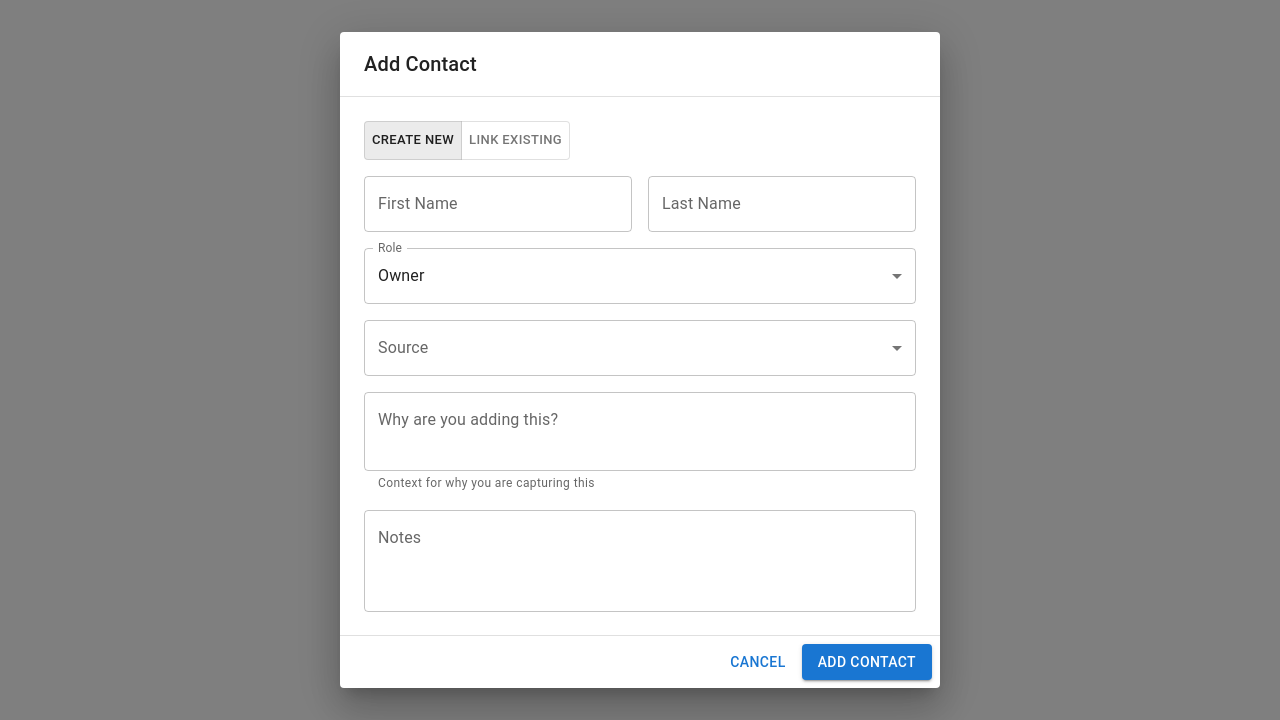
Test: ContactFormModal › link existing contact › clears the selected contact when the search text is edited
The image size is (1280, 720).
Click the button with test id "contact-form-mode-link".
click(516, 140)  # box [461,121,570,160]
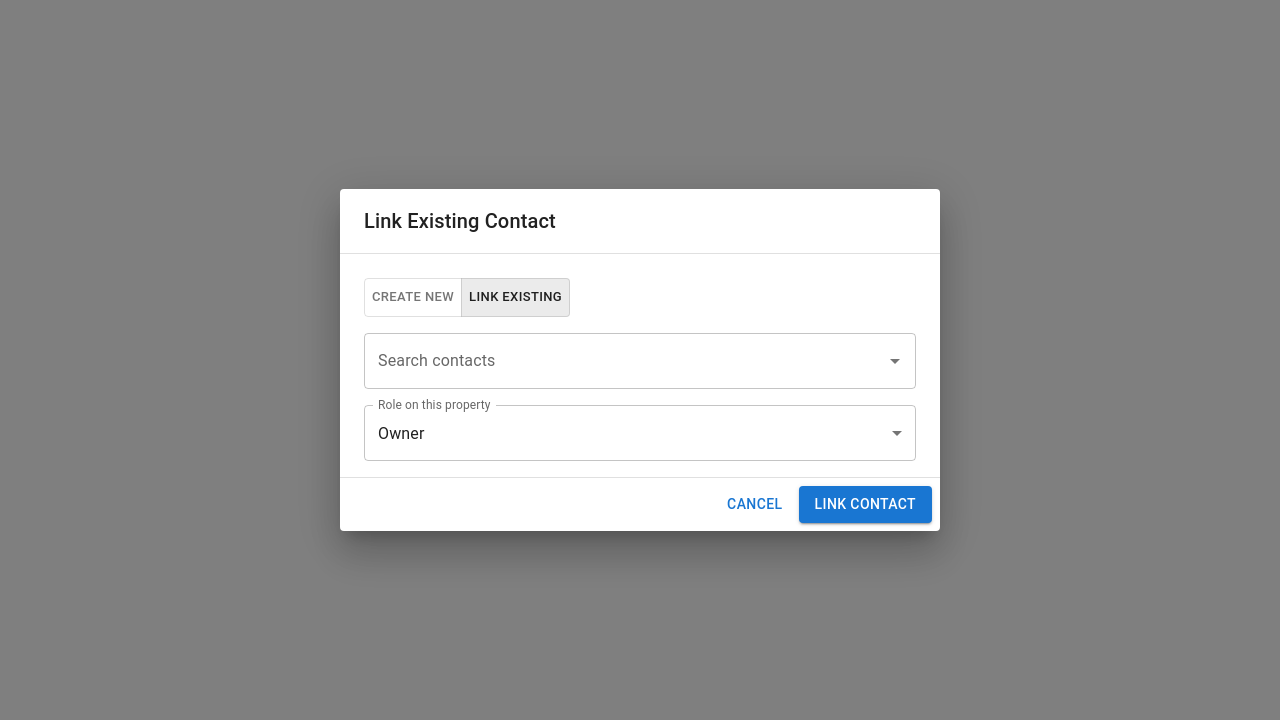
Type "Shek" into the dropdown with test id "contact-link-search-input".
click(625, 361); type("Shek")  # box [373,342,877,380]
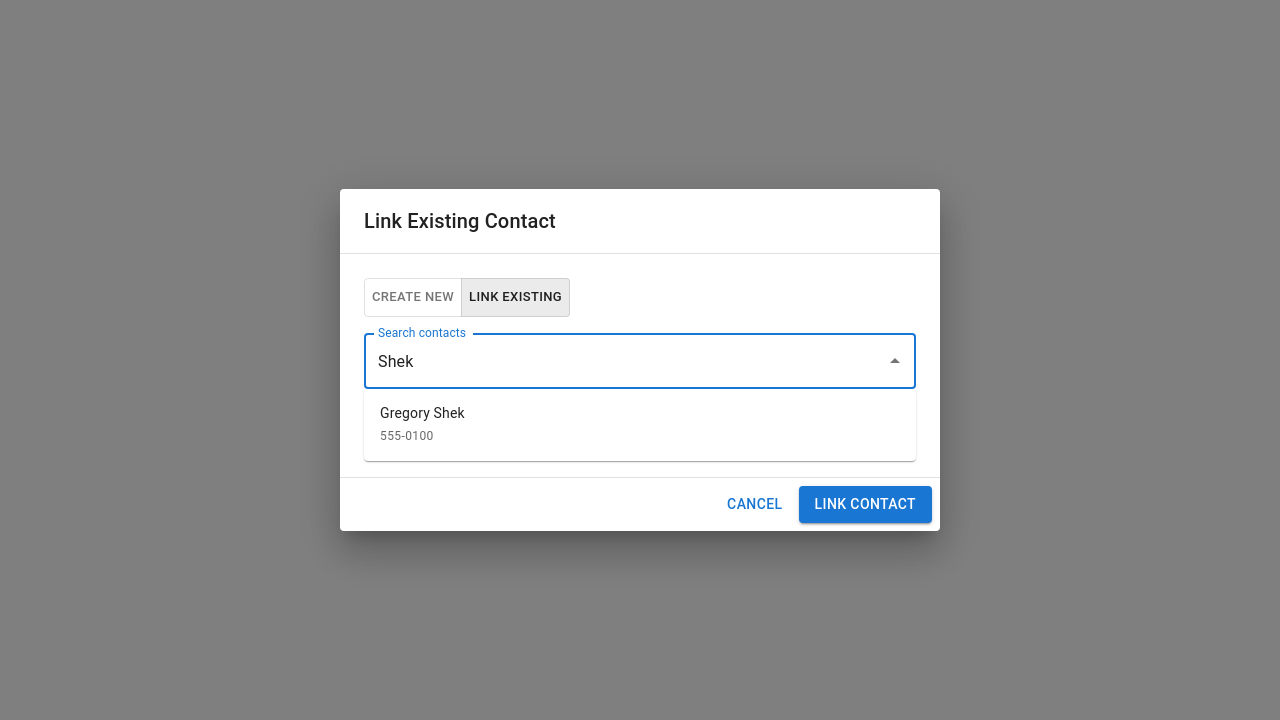
Click the option "Gregory Shek 555-0100".
click(422, 424)  # box [380,405,465,443]
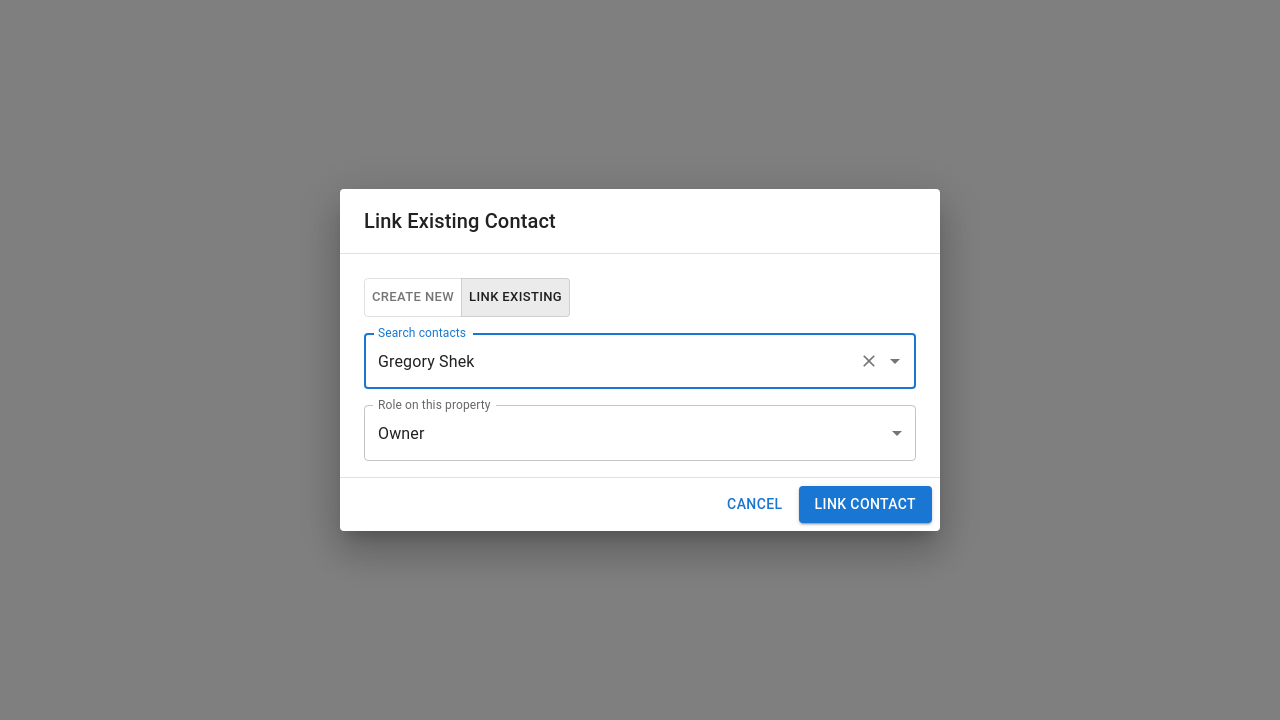
Clear the dropdown with test id "contact-link-search-input" at (612, 361), box [373,342,851,380]
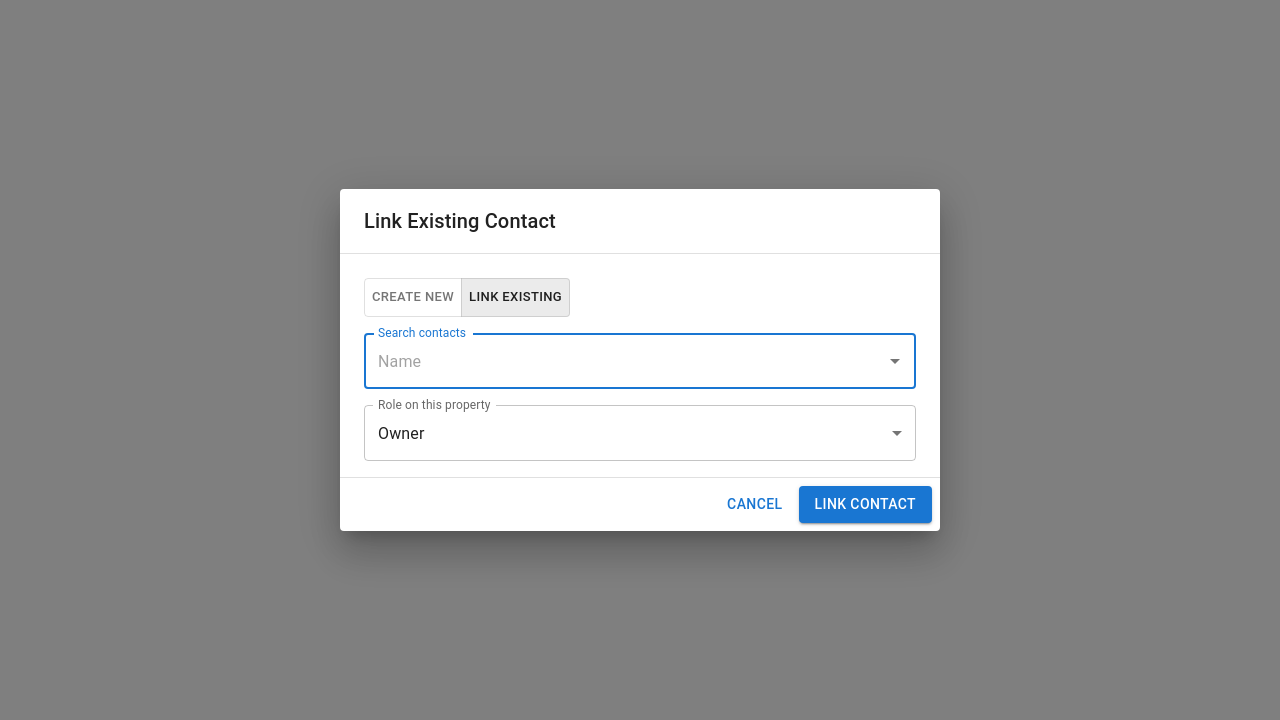
Type "Jones" into the dropdown with test id "contact-link-search-input".
click(625, 361); type("Jones")  # box [373,342,877,380]
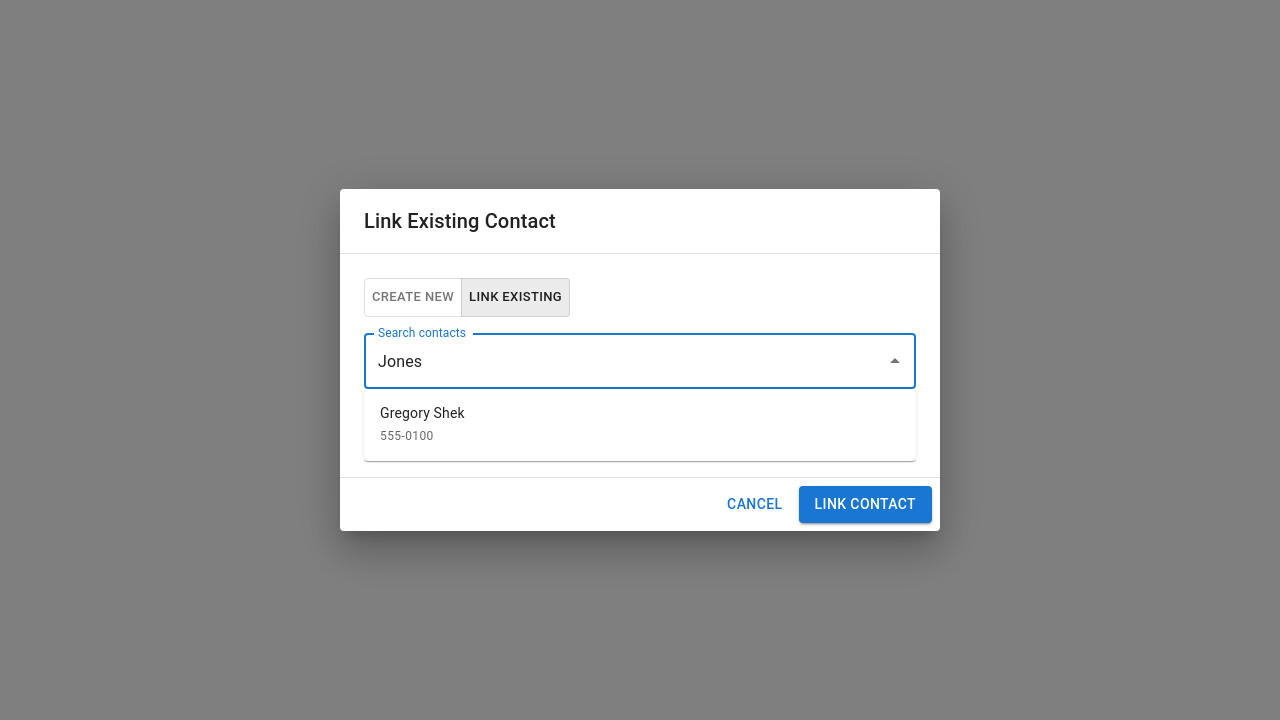
Click the button with test id "contact-form-submit".
click(865, 504)  # box [798,486,932,523]
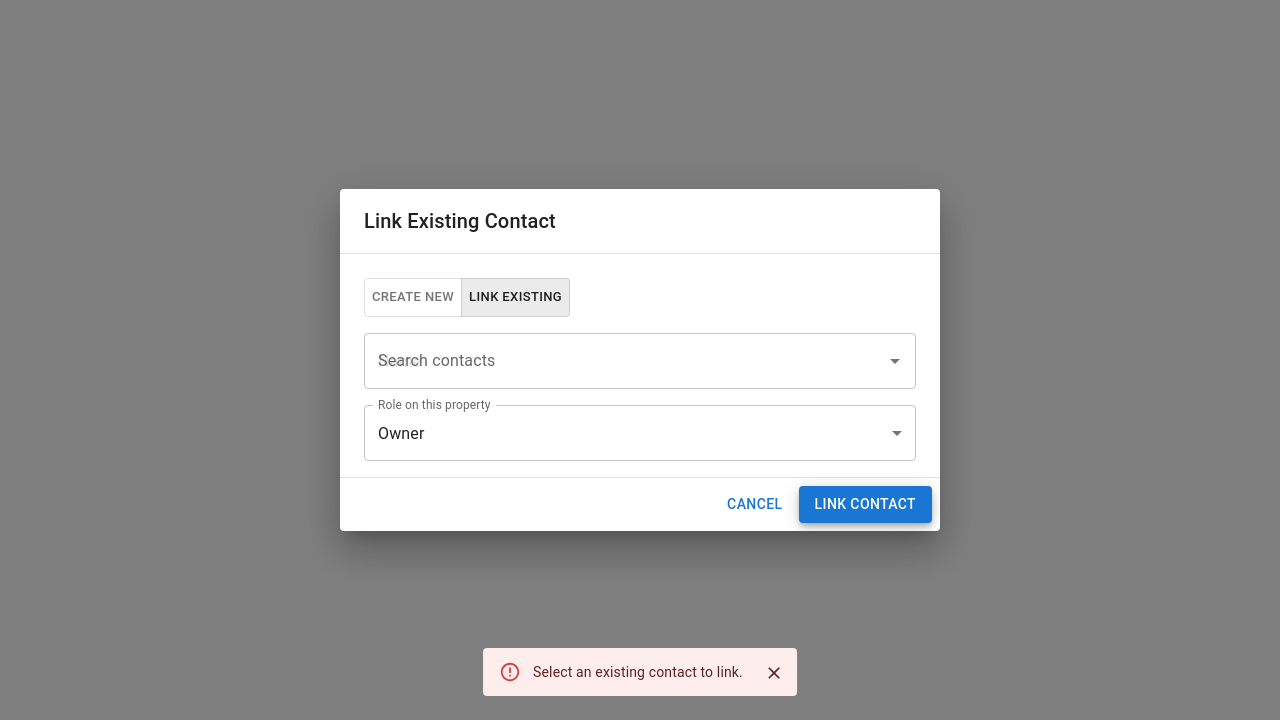
Expected: the text "Select an existing contact to link." is shown, [533,664,743,680]
